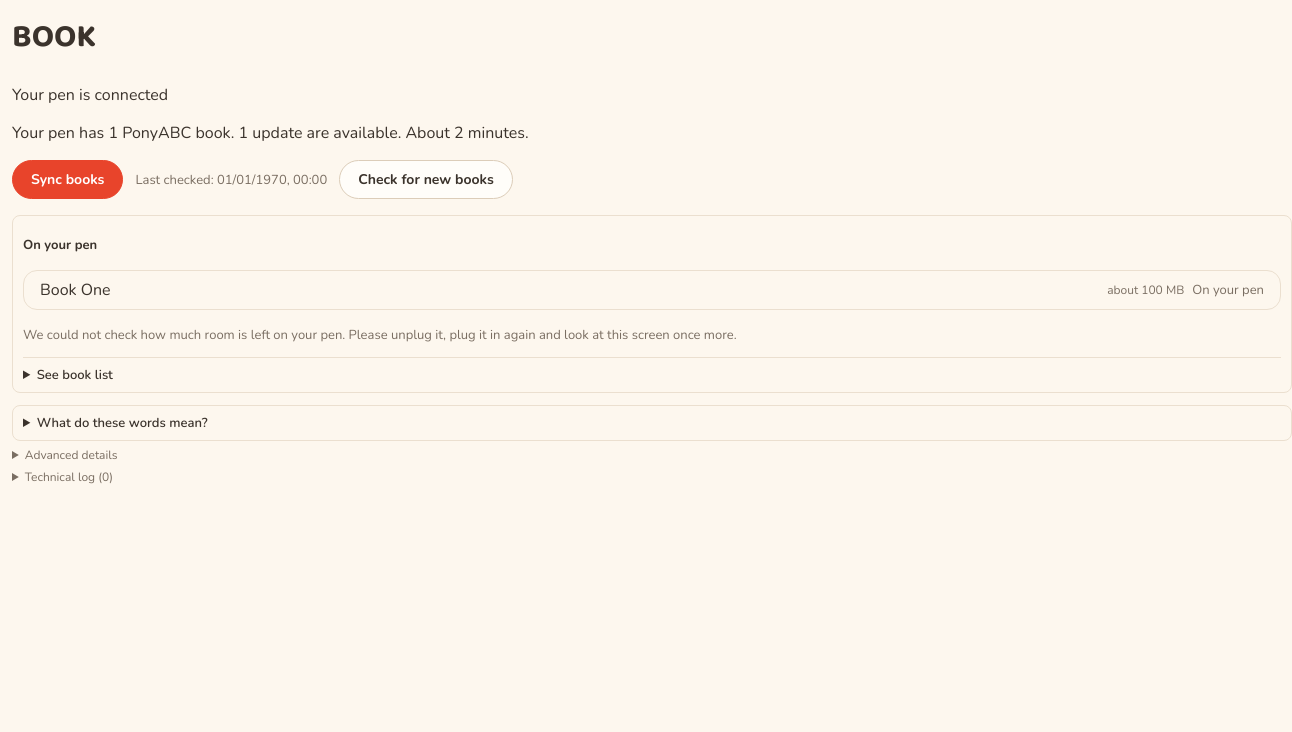
it: BookLibraryScreen — rebuilding the pen's book list › never tells a parent that an update needs no restart
Expected: the text "Last checked: 01/01/1970, 00:00" is shown, 135,171 -> 327,189
Click the button "Sync books".
click(68, 180)  # box 12,160 -> 123,199
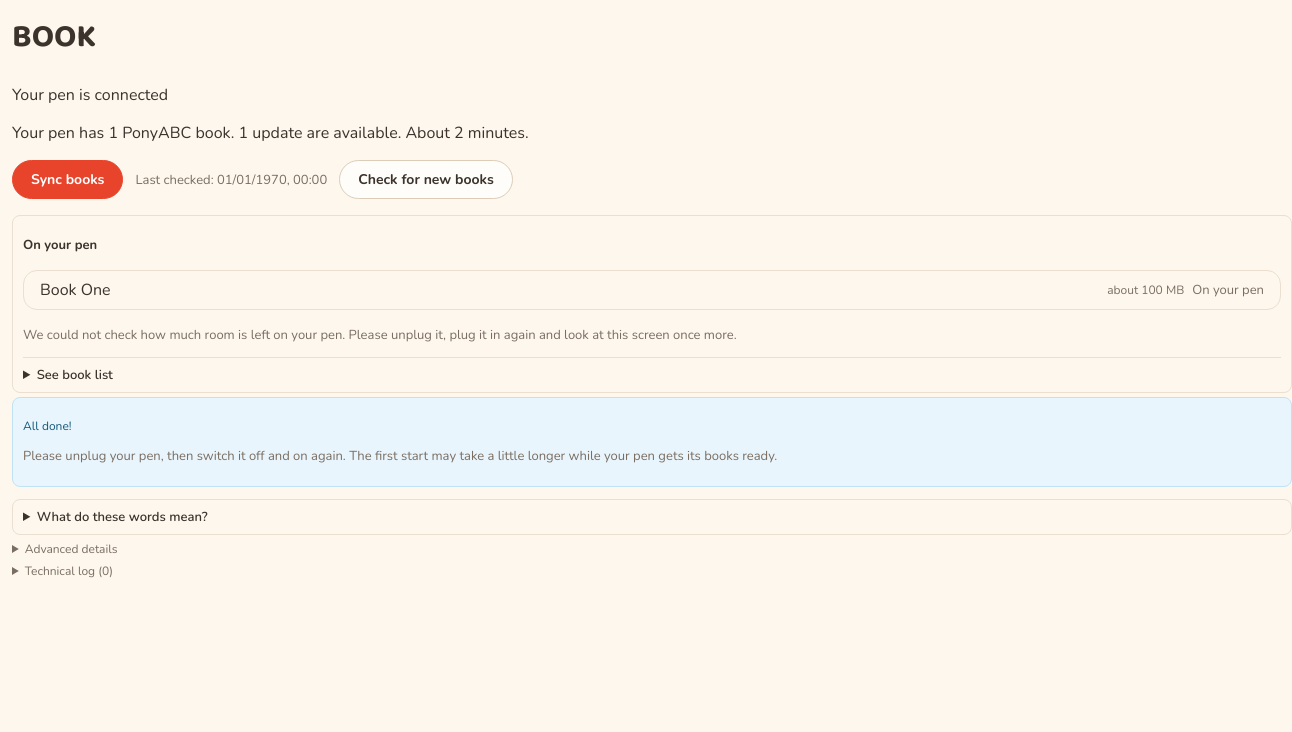
Result: the text "All done!" is shown at 23,418 -> 72,434
